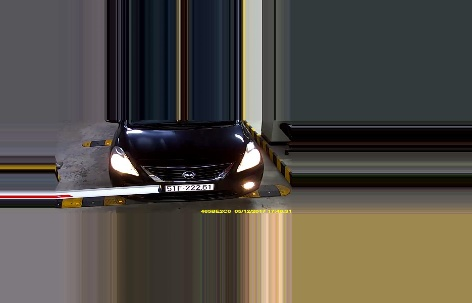plate: (165, 181, 213, 193)
